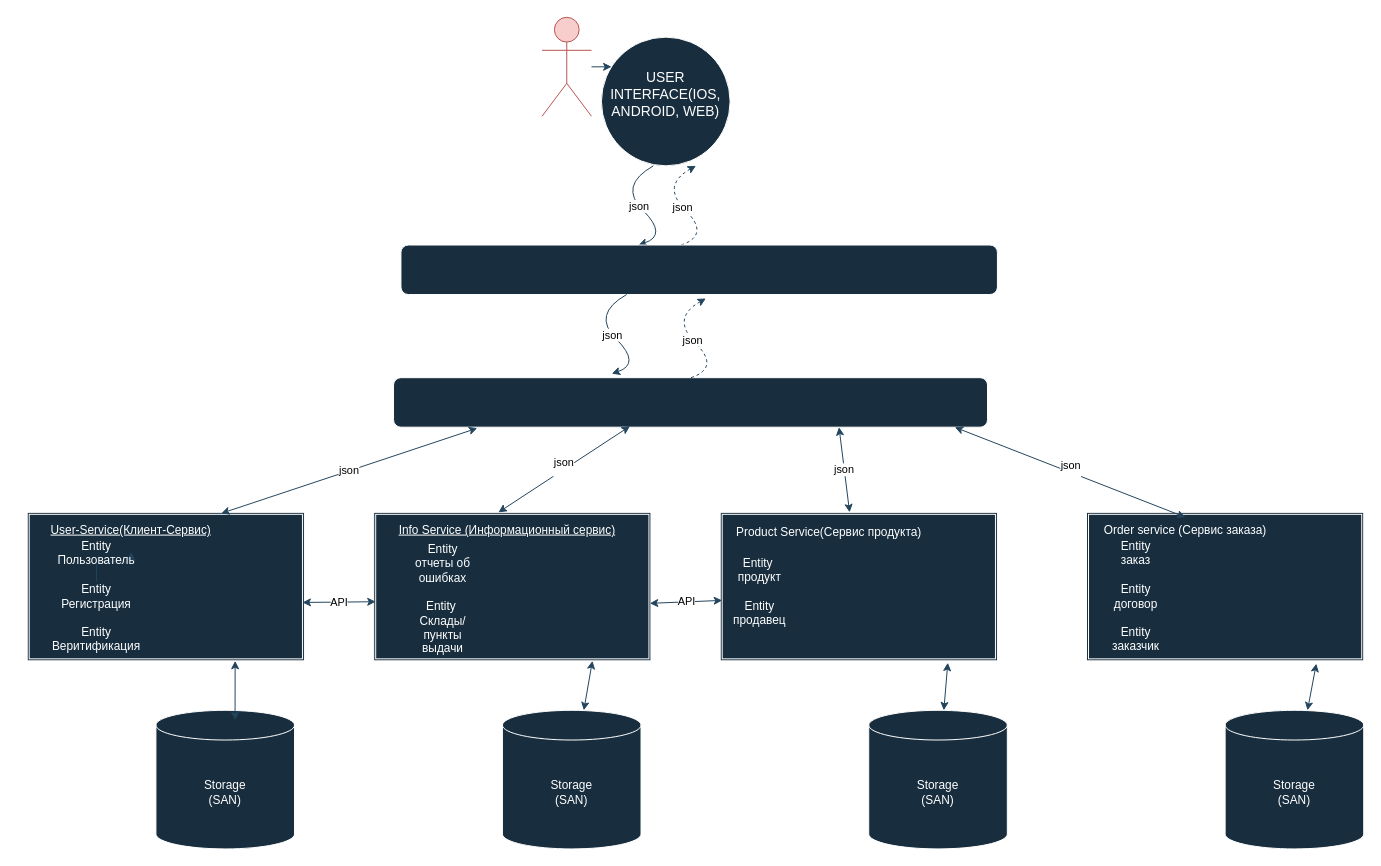
The diagram is 1381 pixels wide and 866 high, and some of its shapes have lost their labels. Each missing label, with the centre of its shape:
"API Gateway(Laravel API Gateway)" goes at (690,402).
"user" goes at (566,66).
"Web server(Nginx)" goes at (698,269).
